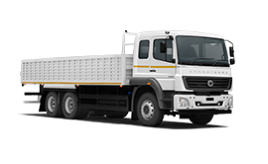truck: (12, 21, 245, 139)
